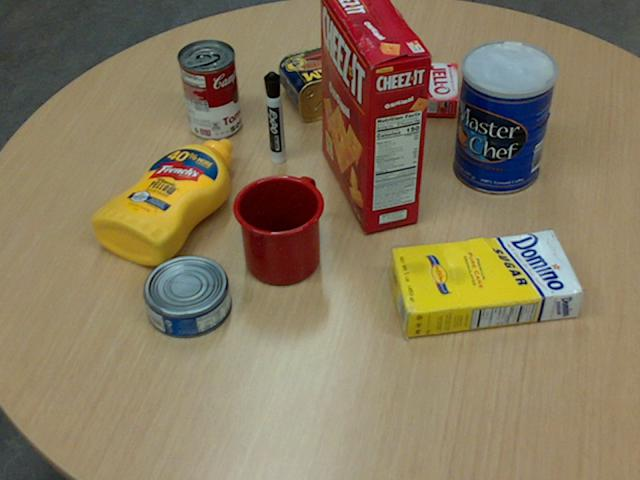cracker_box: (320, 0, 430, 230)
gelatin_box: (398, 60, 456, 116)
large_marker: (263, 71, 284, 164)
master_chef_can: (452, 41, 556, 195)
mug: (231, 174, 323, 285)
mustard_bottle: (90, 138, 231, 264)
potted_meat_can: (279, 42, 374, 121)
sugar_box: (387, 230, 583, 340)
tomato_soup_can: (178, 38, 240, 138)
tuna_fish_can: (141, 255, 230, 337)
